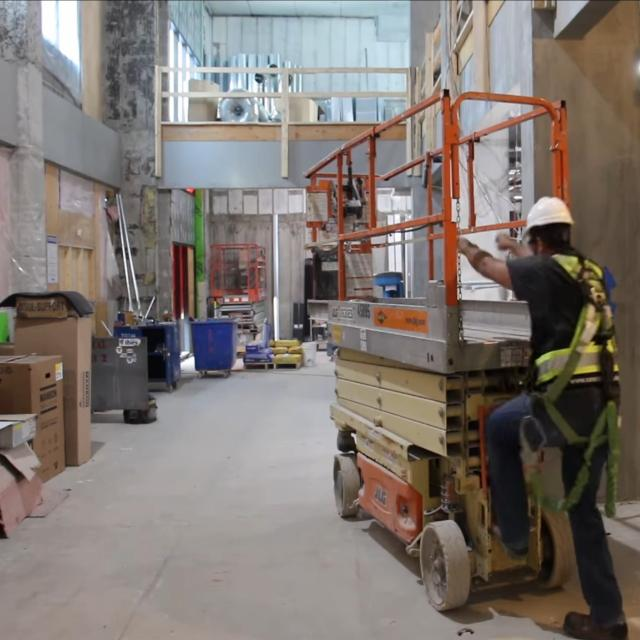2m above platform: (298, 96, 474, 595)
Belt: (530, 253, 620, 392)
worker: (475, 190, 640, 640)
